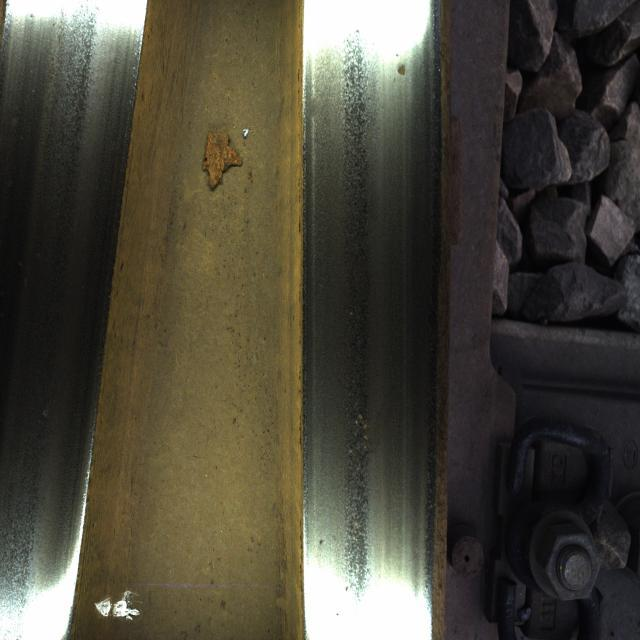normal: (328, 20, 398, 596)
